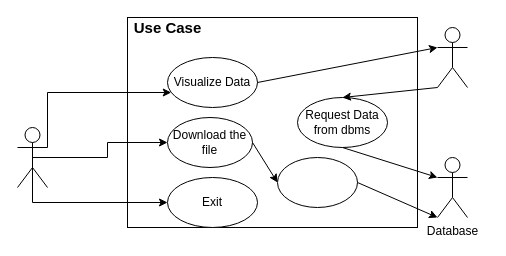
This 506x256 diagram has some shape labels left out. Each missing label, with the box of its shape:
Retrieve file from dbms: (276, 156, 358, 208)
User: (16, 126, 48, 188)
VisualizeData: (436, 26, 468, 88)
